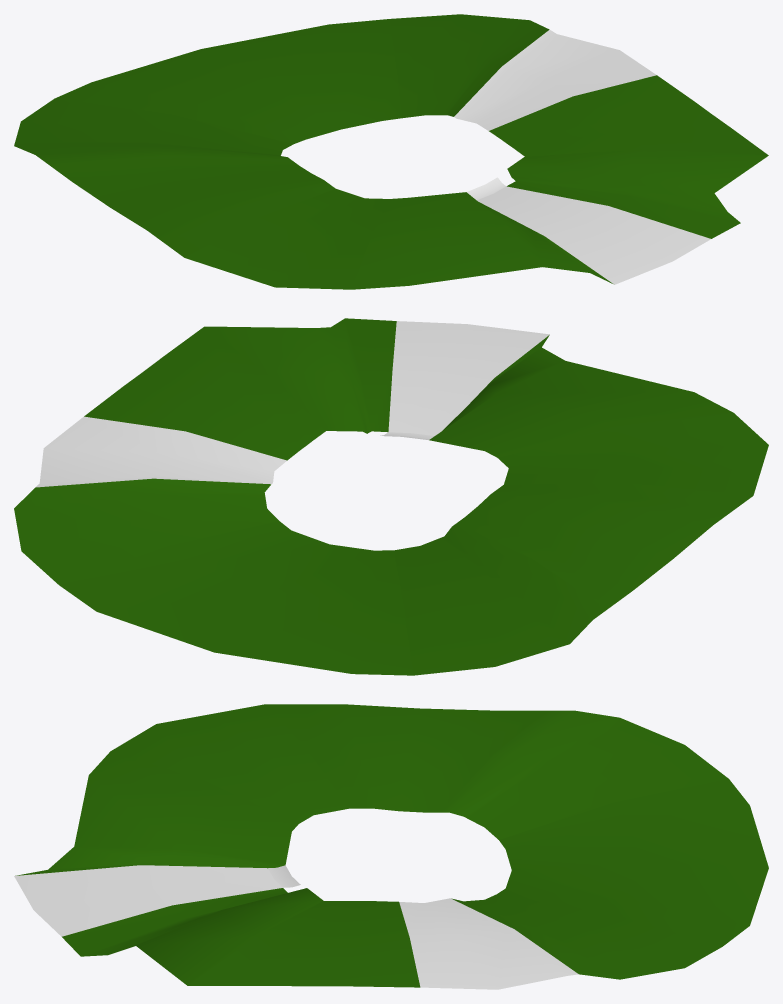
File: Tausta.fbx
3 views of the same model, one above another, from view 1: azimuth 30°, elevation 25°; view 2: azimuth 150°, elevation 25°; view 3: azimuth 270°, elevation 25° (orthographic). The views are drawn at different scales.
Visible parts, largest first — view 1: taustaMaa.004, taustaMaa.002, taustaMaa.010, taustaMaa.008, taustaMaa.007, taustaMaa, taustaMaa.003, taustaMaa.005, taustaMaa.009, taustaMaa.006; view 2: taustaMaa.004, taustaMaa.003, taustaMaa.002, taustaMaa.005, taustaMaa.010, taustaMaa.007, taustaMaa, taustaMaa.008, taustaMaa.006, taustaMaa.009; view 3: taustaMaa.004, taustaMaa.003, taustaMaa.010, taustaMaa.002, taustaMaa, taustaMaa.007, taustaMaa.009, taustaMaa.008, taustaMaa.005, taustaMaa.006.
Part boxes in pixels (x1,y1,x2,y2): taustaMaa.004: (55, 19, 401, 144); taustaMaa.002: (49, 156, 335, 257); taustaMaa.010: (352, 192, 612, 289); taustaMaa.008: (507, 149, 768, 238); taustaMaa.007: (489, 75, 768, 156); taustaMaa: (185, 189, 389, 289); taustaMaa.003: (14, 98, 293, 164); taustaMaa.005: (389, 14, 549, 118); taustaMaa.009: (466, 177, 710, 284); taustaMaa.006: (454, 29, 656, 130); taustaMaa.004: (59, 521, 413, 675); taustaMaa.003: (394, 523, 607, 675); taustaMaa.002: (457, 483, 752, 608); taustaMaa.005: (14, 478, 278, 584); taustaMaa.010: (429, 335, 732, 457); taustaMaa.007: (84, 326, 325, 460); taustaMaa: (497, 412, 768, 495); taustaMaa.008: (205, 318, 396, 433); taustaMaa.006: (35, 416, 286, 487); taustaMaa.009: (380, 321, 549, 440); taustaMaa.004: (497, 779, 768, 946); taustaMaa.003: (440, 710, 728, 839); taustaMaa.010: (15, 751, 298, 875); taustaMaa.002: (266, 704, 546, 812); taustaMaa: (111, 704, 348, 823); taustaMaa.007: (188, 901, 420, 987); taustaMaa.009: (14, 865, 300, 936); taustaMaa.008: (62, 888, 323, 985); taustaMaa.005: (451, 894, 722, 979); taustaMaa.006: (399, 898, 578, 989).
Size of the model in its own units: 11039 by 668 by 12680.
